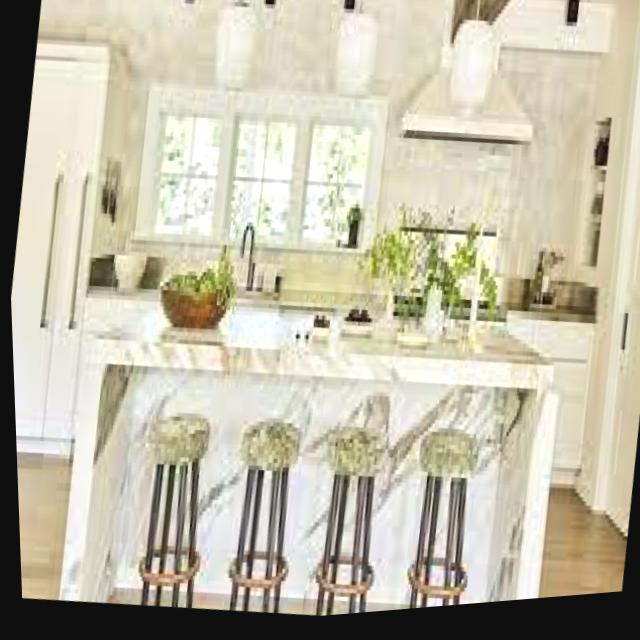noobs: (535, 502, 621, 607), (13, 451, 69, 601)
obs: (54, 301, 554, 619)
